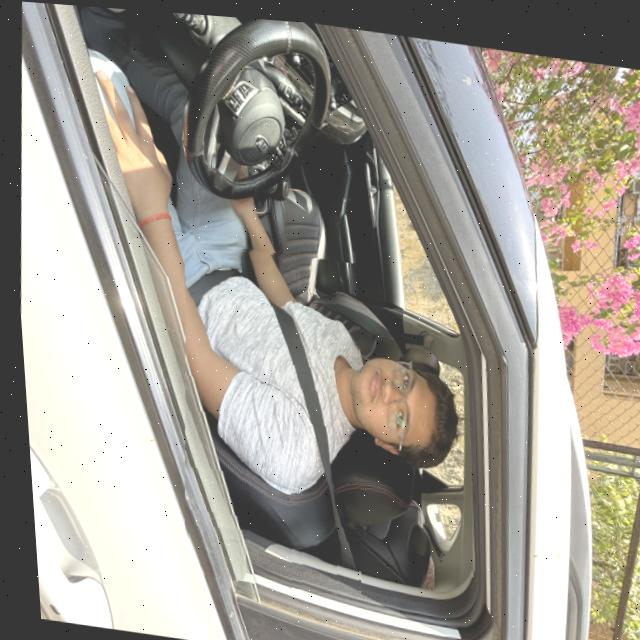seatbelt: (159, 234, 375, 593)
